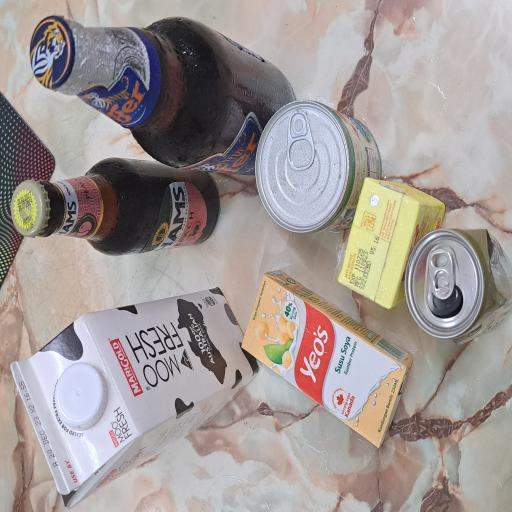can: (208, 340, 308, 510)
drink carton: (4, 14, 169, 346), (47, 321, 181, 512), (152, 449, 250, 512)
glass bottle: (254, 38, 369, 396), (194, 13, 265, 294)
plastic bottle cap: (61, 72, 113, 141)
pop tab: (256, 382, 302, 420)
